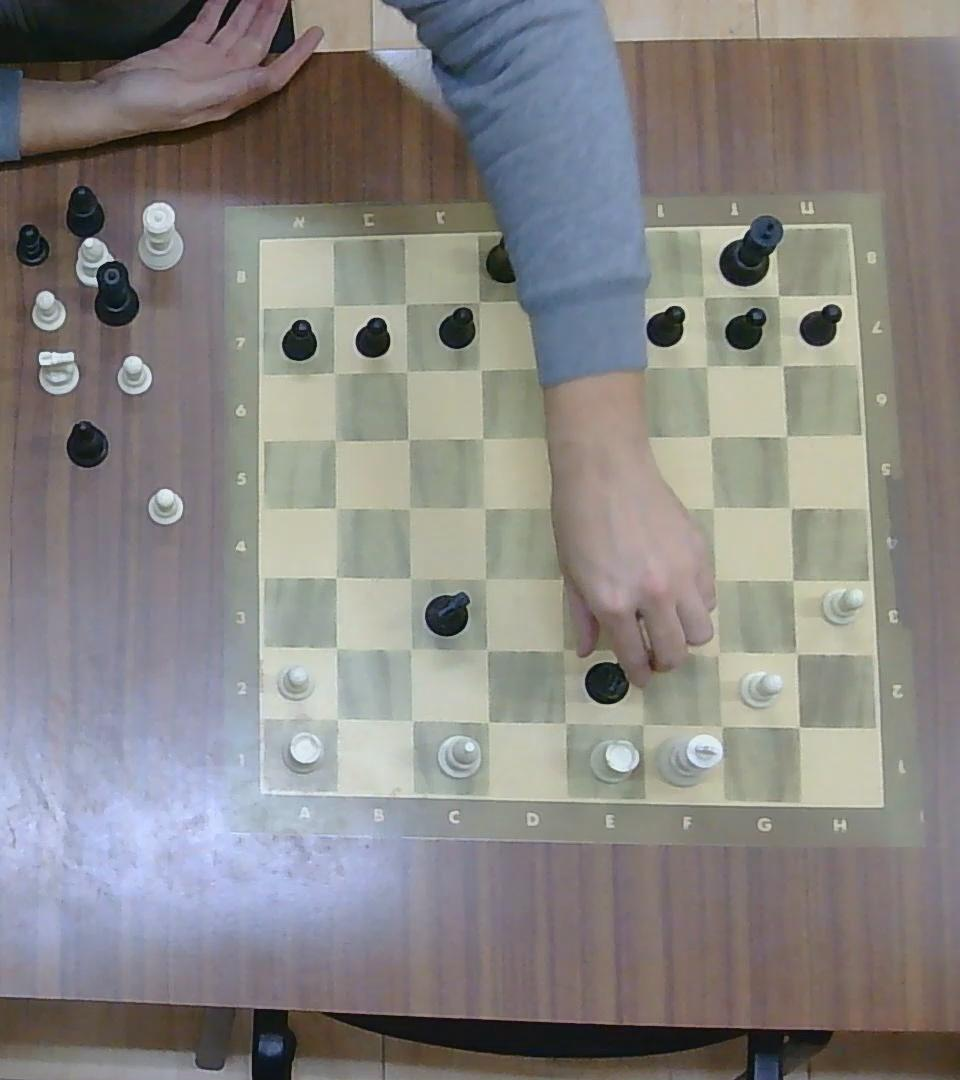xcorner: (703, 707, 737, 740), (703, 637, 735, 669), (626, 707, 657, 740), (620, 420, 651, 453), (548, 706, 579, 738), (471, 704, 502, 736), (320, 701, 351, 733), (781, 637, 812, 669), (534, 284, 565, 316), (783, 710, 813, 743), (621, 281, 652, 312), (395, 703, 425, 734), (470, 634, 501, 664), (320, 632, 350, 663), (394, 634, 424, 664), (548, 634, 578, 664), (699, 563, 728, 594), (320, 562, 350, 591), (776, 564, 806, 593), (548, 563, 577, 593), (627, 636, 656, 666), (625, 491, 654, 521), (624, 561, 652, 592), (699, 493, 728, 522), (776, 492, 806, 520), (470, 564, 499, 592), (395, 562, 423, 591), (322, 493, 350, 522), (536, 424, 565, 452), (619, 353, 647, 382), (471, 492, 499, 520), (395, 492, 423, 520), (468, 422, 495, 451), (320, 425, 348, 452), (767, 352, 795, 379), (465, 288, 493, 315), (318, 291, 346, 318), (320, 359, 348, 386), (543, 492, 570, 520), (693, 352, 720, 379), (772, 422, 800, 448), (467, 354, 493, 381), (393, 356, 419, 382), (395, 425, 421, 451), (697, 422, 723, 448), (690, 284, 716, 309), (393, 289, 419, 314), (528, 356, 553, 382), (766, 283, 791, 307)
